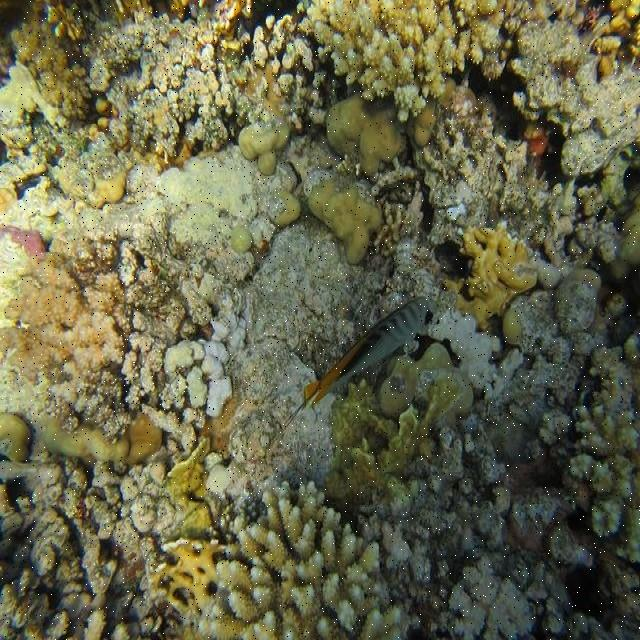fish: (272, 296, 441, 447)
reefs: (0, 140, 303, 639), (194, 117, 526, 534), (410, 57, 639, 491), (327, 344, 638, 639), (0, 0, 405, 214), (306, 0, 639, 220), (195, 478, 403, 639), (564, 335, 639, 622)
